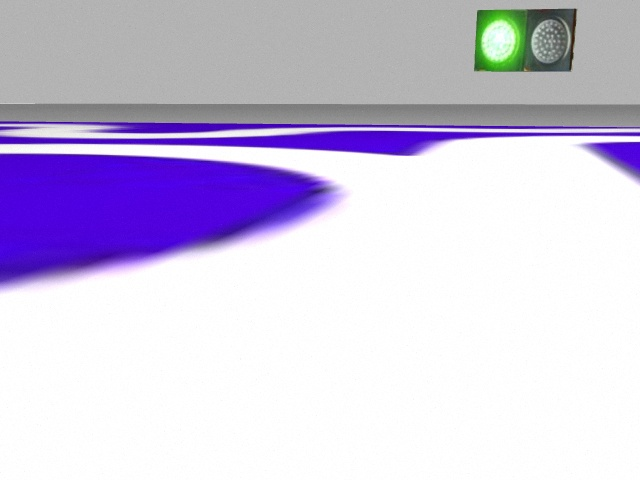green: (476, 10, 526, 69)
